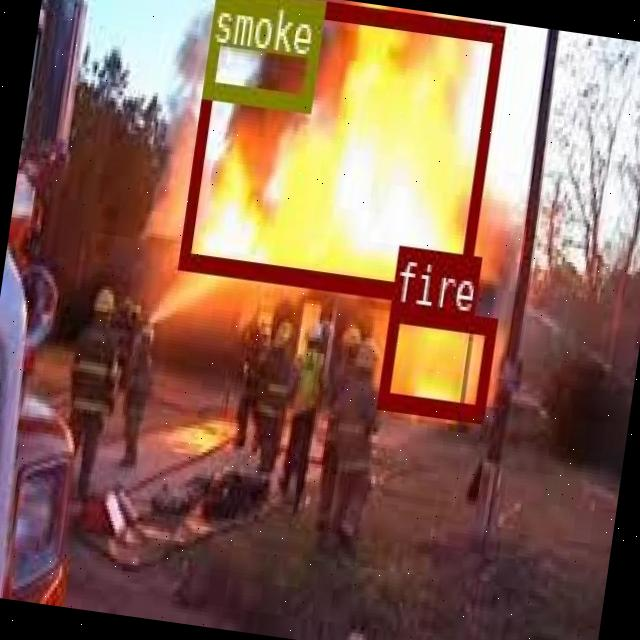fire: (178, 0, 503, 303), (376, 302, 495, 418)
smoke: (200, 0, 325, 109)
